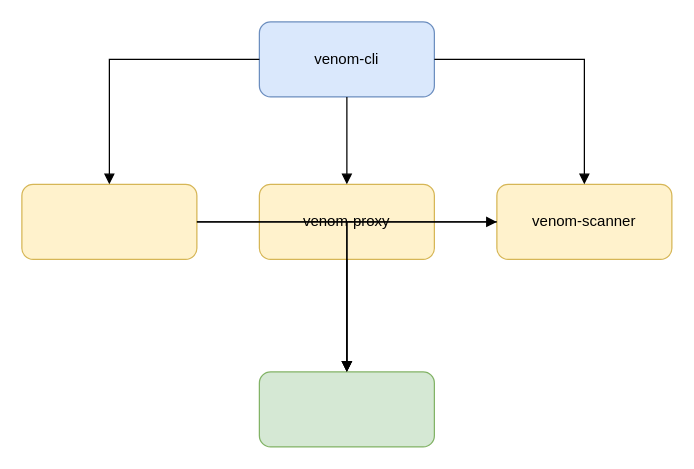
Some shapes in this 694 by 469 pixel diagram are drawn without their labels. The shapes that lost their labels are listed below. From the top down, each one's centre as x and y in pixels, then its label:
pixel 109 221: venom-api
pixel 346 409: venom-core
